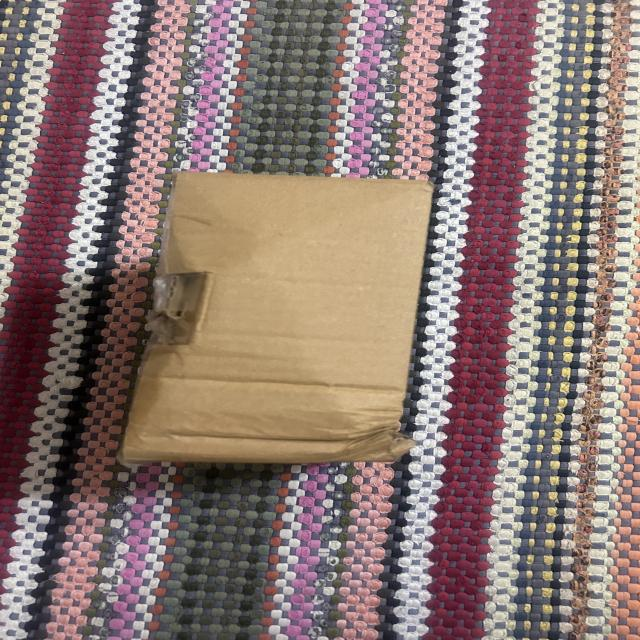damaged: (130, 165, 407, 484), (132, 252, 234, 372), (316, 403, 415, 472)
